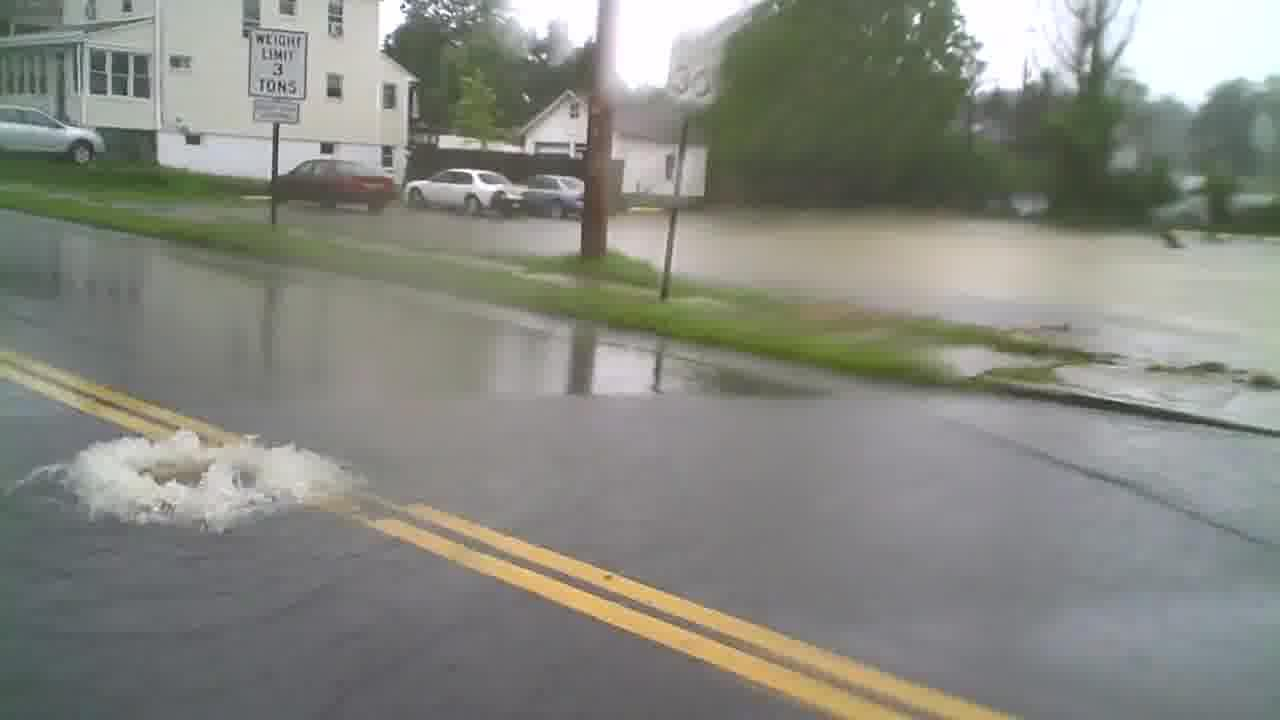drainage_overflow: (62, 414, 326, 536)
